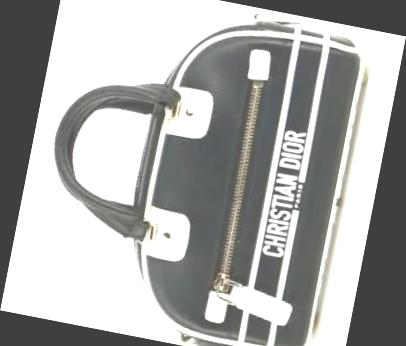DIOR: (248, 120, 319, 267)
